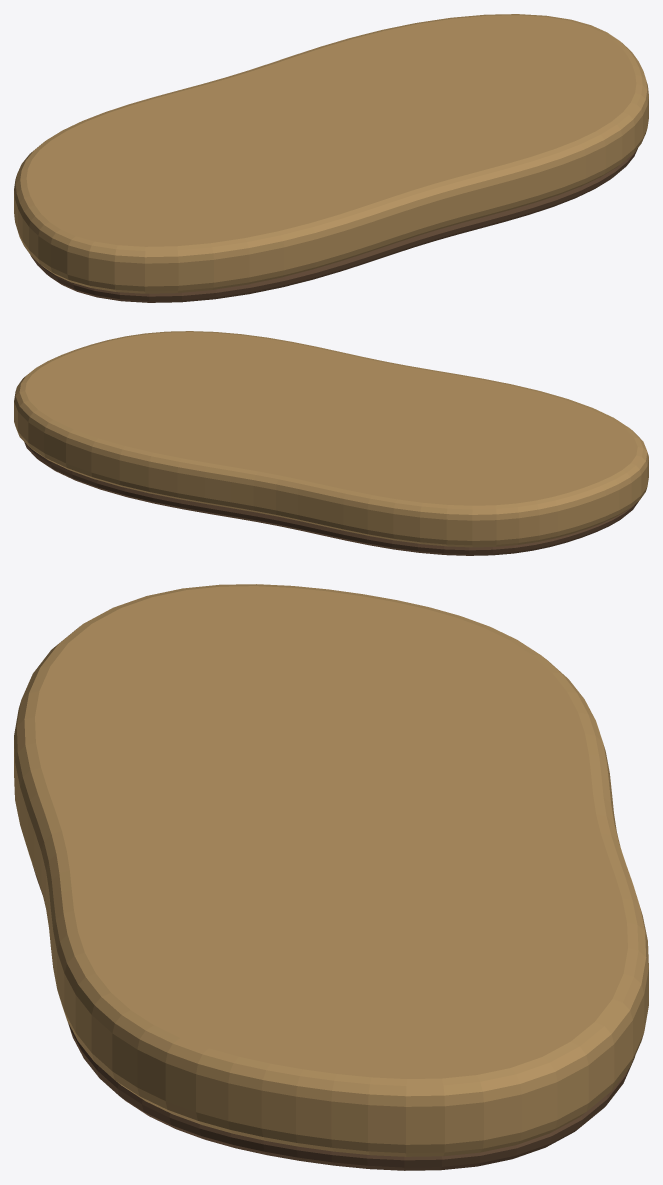
The model's file is tray.glb.
3 views of the same model, one above another, from view 1: azimuth 30°, elevation 25°; view 2: azimuth 150°, elevation 25°; view 3: azimuth 270°, elevation 25° (orthographic). The views are drawn at different scales.
Parts seen in each view (by area): view 1: tray_rim, tray_base; view 2: tray_rim, tray_base; view 3: tray_rim, tray_base.
Boxes of the visible parts, x1,y1,x2,y2 form: tray_rim: [14, 14, 648, 293]; tray_base: [30, 148, 637, 302]; tray_rim: [14, 331, 648, 547]; tray_base: [24, 442, 638, 555]; tray_rim: [14, 584, 648, 1156]; tray_base: [32, 864, 634, 1170].
Bounding box in the file's own units: 0.4617 × 0.04 × 0.2426.
